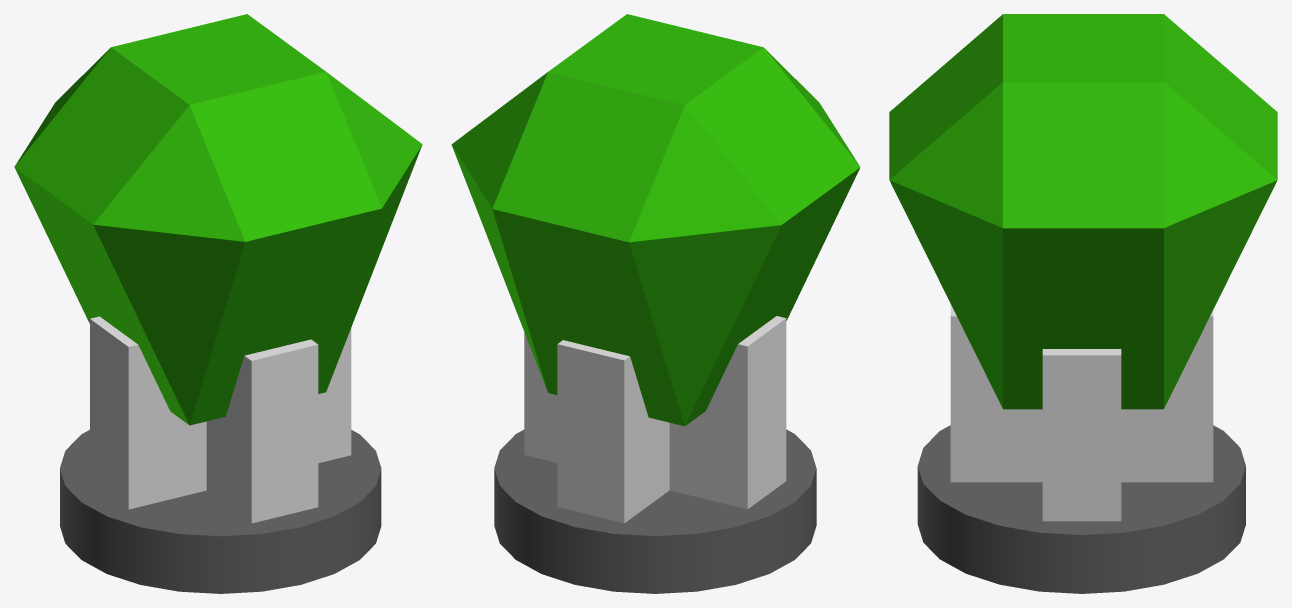
Rendered from gems_emerald_6.obj.
3 views of the same model, side by side, from view 1: azimuth 30°, elevation 25°; view 2: azimuth 150°, elevation 25°; view 3: azimuth 270°, elevation 25° (orthographic). The views are drawn at different scales.
Parts seen in each view (by area): view 1: mergedBlocks; view 2: mergedBlocks; view 3: mergedBlocks.
Boxes of the visible parts, x1,y1,x2,y2 form: mergedBlocks: [14, 14, 422, 593]; mergedBlocks: [451, 14, 860, 593]; mergedBlocks: [889, 14, 1277, 593].
Size of the model in its own units: 1.18 by 1.6 by 1.18.
